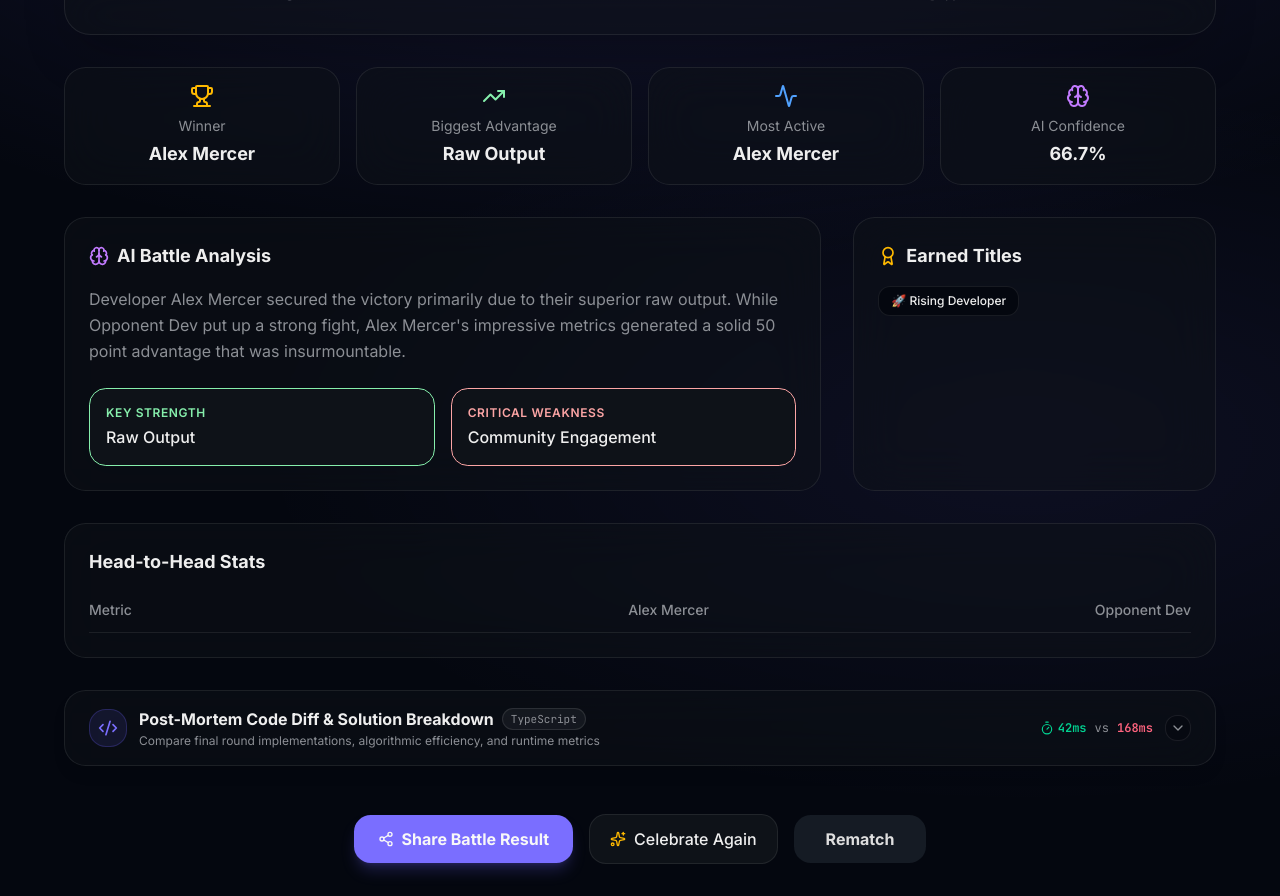
Scenario: BattleReport Component Flow › renders expandable code diff accordion and expands on click
(page scrolled)
Note: Click to expand accordion
Click the button with test id "code-diff-toggle-button": x=108, y=728 [65, 691, 1215, 765]
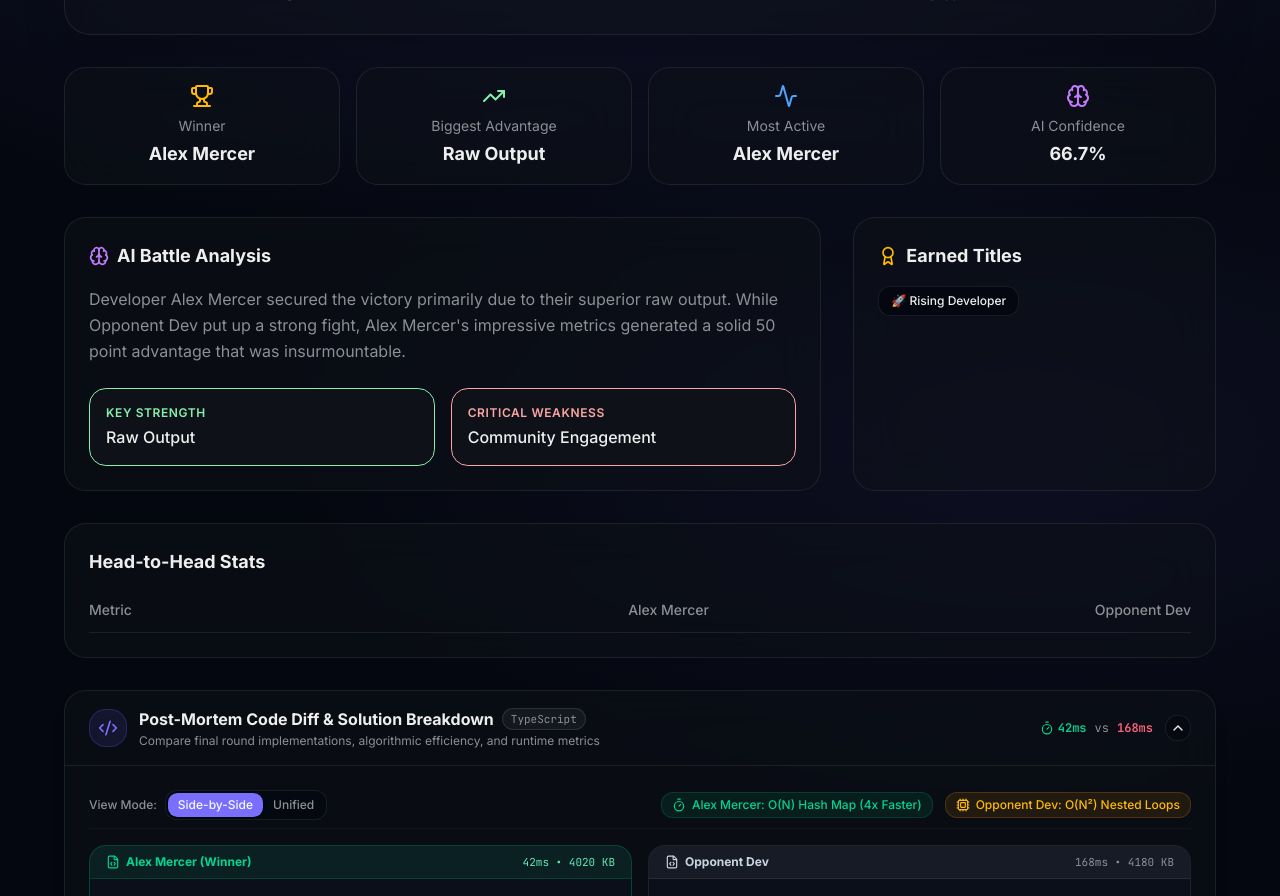
Expected: the heading "Post-Mortem Code Diff & Solution Breakdown" is shown, [139, 707, 494, 731]
Expected: the button with test id "code-diff-toggle-button" is expanded, [65, 691, 1215, 765]
Expected: the button with test id "view-mode-side-by-side" is shown, [168, 793, 263, 817]
